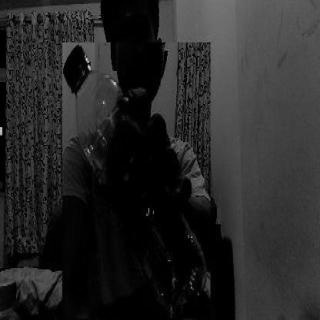plastic_bottles: (62, 43, 210, 320)
